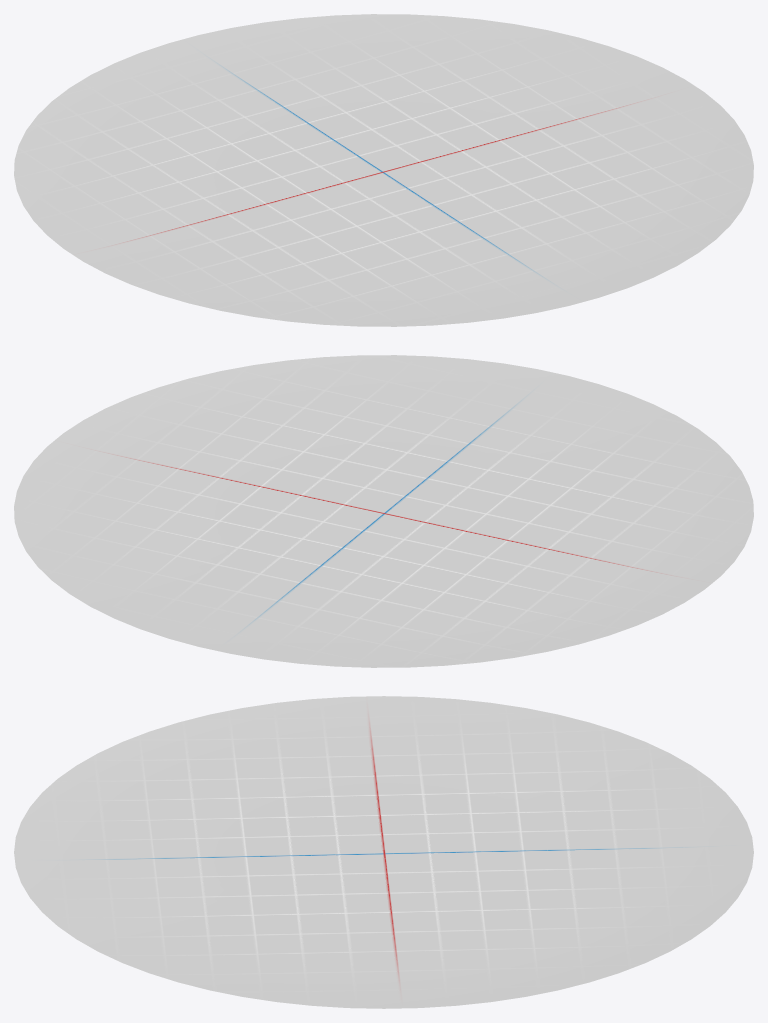
File: Background_Object_v1.gltf
3 renders of one model, top to bottom at view 1: azimuth 30°, elevation 25°; view 2: azimuth 150°, elevation 25°; view 3: azimuth 270°, elevation 25°, orthographic.
Visible parts, largest first — view 1: Circle; view 2: Circle; view 3: Circle.
Part boxes in pixels (x1,y1,x2,y2): Circle: (14,14,753,326); Circle: (14,355,753,667); Circle: (14,696,753,1008).
Bounding box in the file's own units: 1.23 × 0.00323 × 1.23.
1 material, 1 textured.
